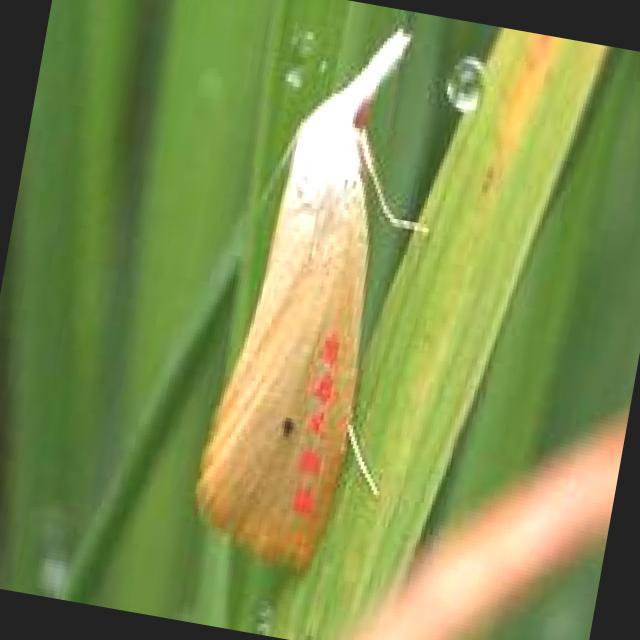stem borer: (197, 29, 427, 567)
